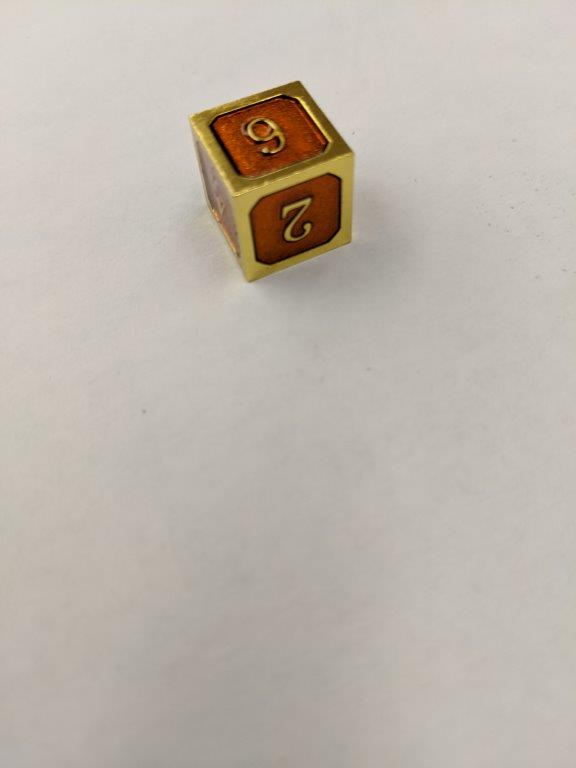d6-6: (192, 79, 354, 287)
